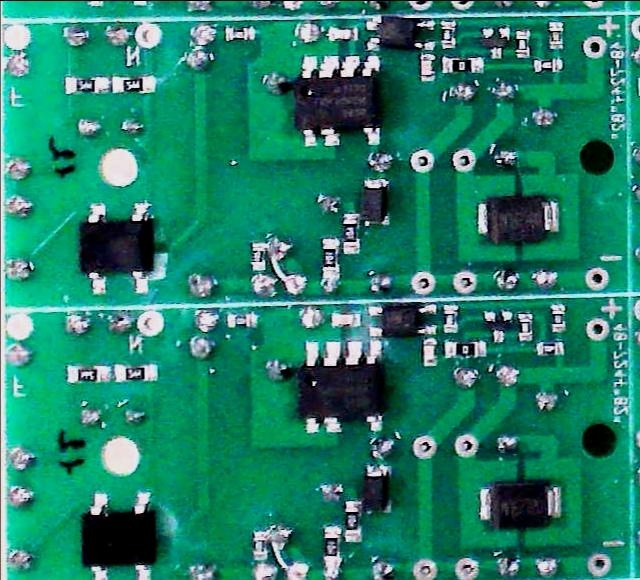chip-capacitor: (330, 312, 359, 326), (422, 338, 435, 366), (420, 53, 433, 80), (329, 28, 355, 40)
chip-resistor: (66, 365, 110, 381), (444, 340, 485, 357), (114, 364, 157, 380), (65, 77, 107, 93), (342, 214, 359, 252), (113, 76, 153, 92), (322, 238, 338, 277), (344, 501, 360, 540), (324, 526, 340, 562), (444, 57, 480, 72), (252, 530, 267, 559), (226, 312, 255, 326), (251, 241, 265, 269), (518, 312, 532, 340), (536, 341, 564, 355), (444, 305, 459, 331), (226, 26, 253, 40), (515, 30, 529, 56), (534, 58, 561, 71), (552, 304, 565, 331), (441, 22, 455, 47), (550, 22, 563, 48)
diode: (476, 194, 559, 243), (478, 479, 562, 527), (362, 464, 391, 511), (363, 178, 388, 226)
ic: (299, 338, 385, 434), (295, 54, 381, 145), (78, 200, 154, 294), (80, 489, 157, 579), (364, 16, 436, 51), (370, 303, 437, 336)
transistor: (484, 310, 512, 341), (482, 27, 509, 57)
